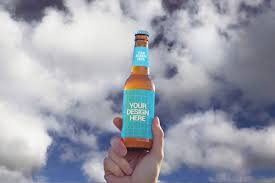beer: (124, 31, 155, 150)
